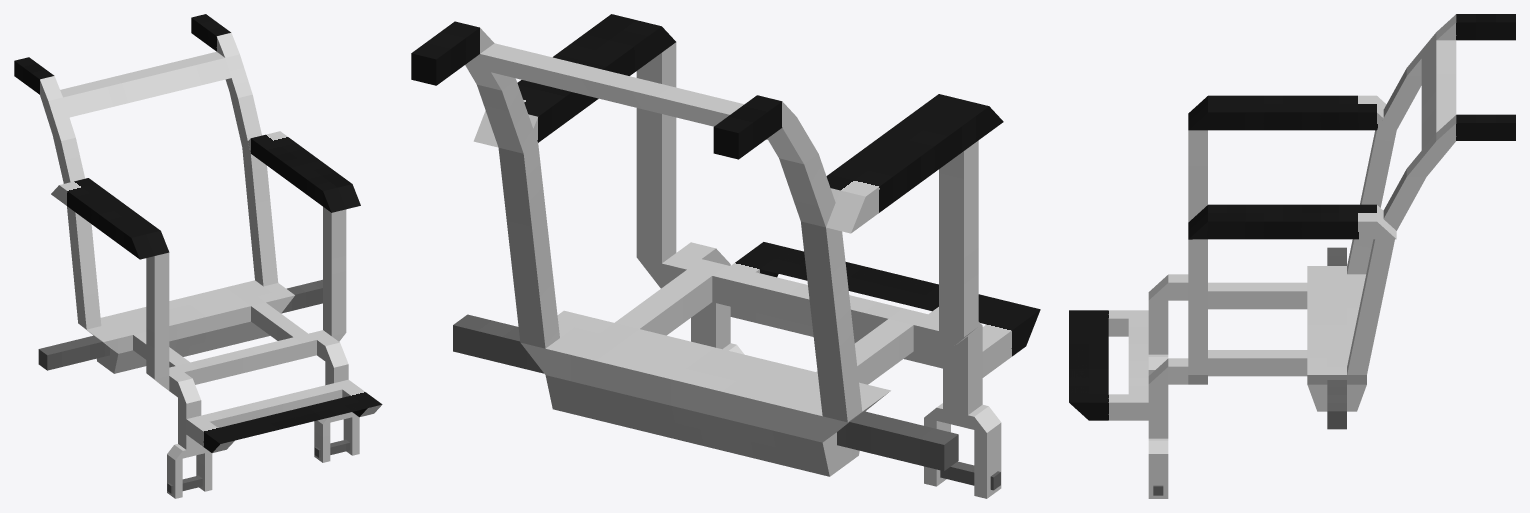
File: wheelchair.obj
3 renders of one model, left to right at view 1: azimuth 30°, elevation 25°; view 2: azimuth 150°, elevation 25°; view 3: azimuth 270°, elevation 25°, orthographic. The views are drawn at different scales.
Visible parts, largest first — view 1: cuboid, skid_right, skid_left, axle_right, axle_left; view 2: cuboid, axle_right, skid_right, axle_left; view 3: cuboid, skid_left, axle_left.
Part boxes in pixels (bbox=[...]): cuboid: bbox=[14, 14, 382, 453]; skid_right: bbox=[167, 444, 212, 498]; skid_left: bbox=[314, 412, 359, 462]; axle_right: bbox=[38, 335, 109, 370]; axle_left: bbox=[281, 279, 322, 313]; cuboid: bbox=[411, 14, 1040, 476]; axle_right: bbox=[837, 411, 958, 470]; skid_right: bbox=[924, 403, 1001, 498]; axle_left: bbox=[453, 314, 543, 373]; cuboid: bbox=[1069, 14, 1515, 438]; skid_left: bbox=[1148, 438, 1168, 498]; axle_left: bbox=[1327, 380, 1346, 429].
Bounding box in the file's own units: 1.22 × 1.31 × 1.41.
